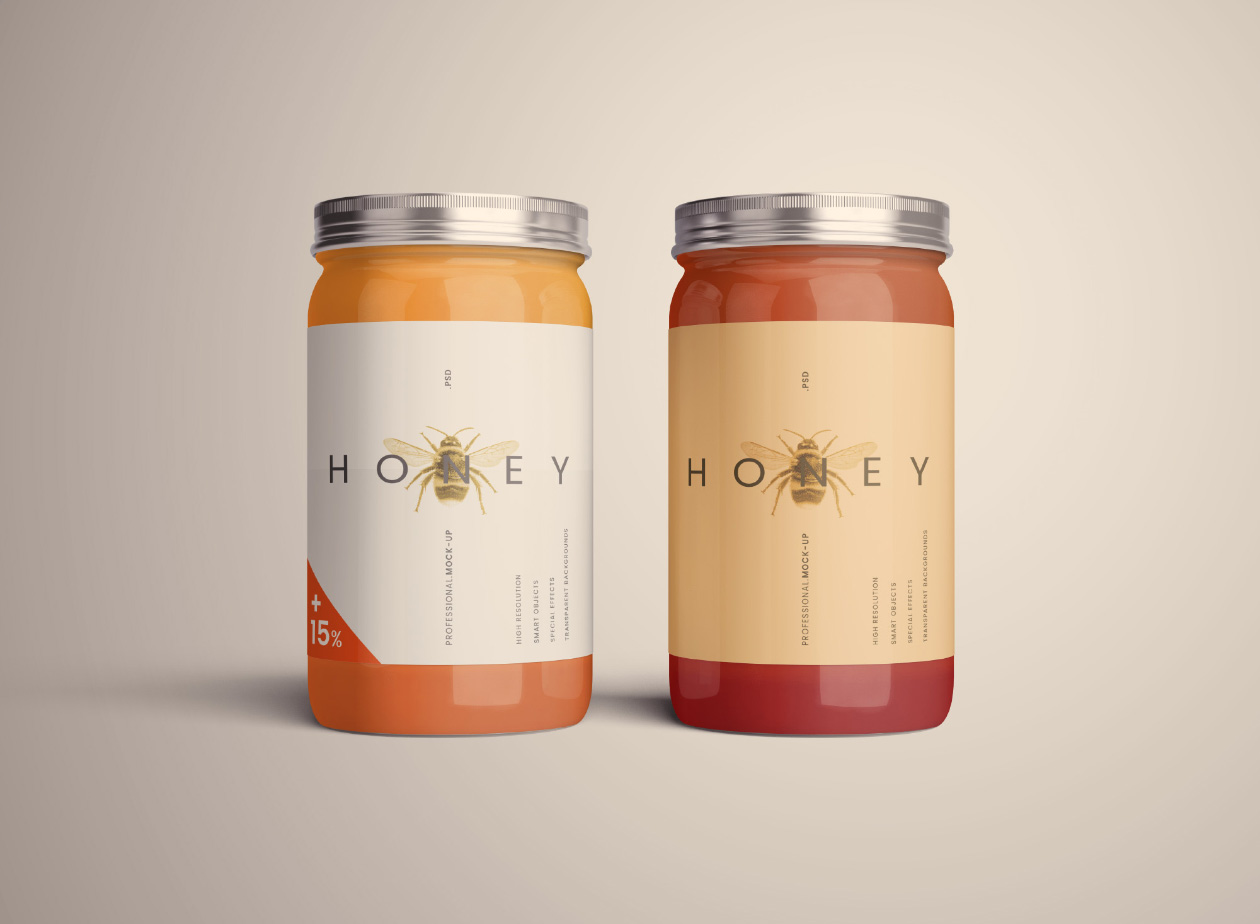Rec_Glass: (267, 153, 613, 757), (635, 157, 980, 757)
